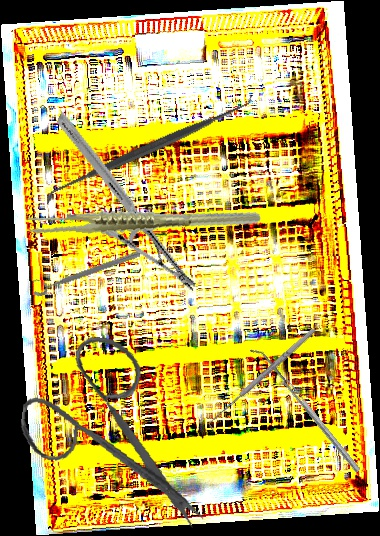Fixation Ring: (29, 242, 142, 298)
Hook Surgical: (203, 324, 322, 434)
Iris Scissors: (9, 328, 228, 530)
Needle Holder: (15, 111, 238, 294)
Spatula Surgical: (38, 90, 260, 208), (249, 343, 361, 477)
Tissue Forceps: (24, 175, 263, 269)
